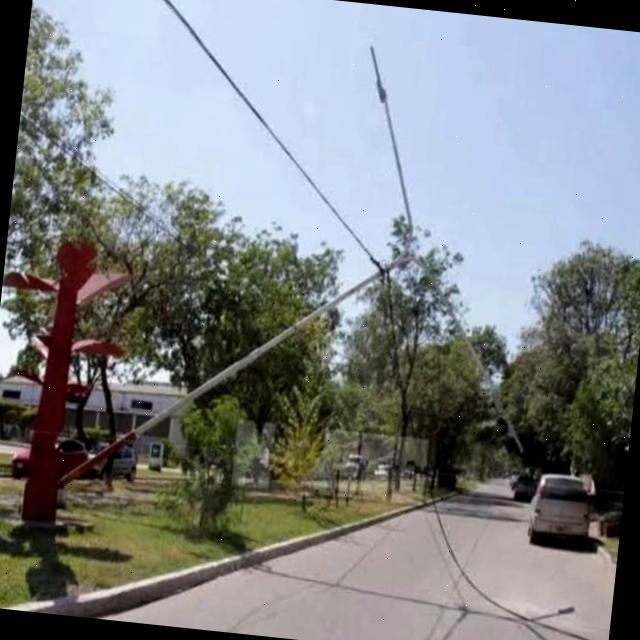Broken Pole: (56, 40, 526, 491)
